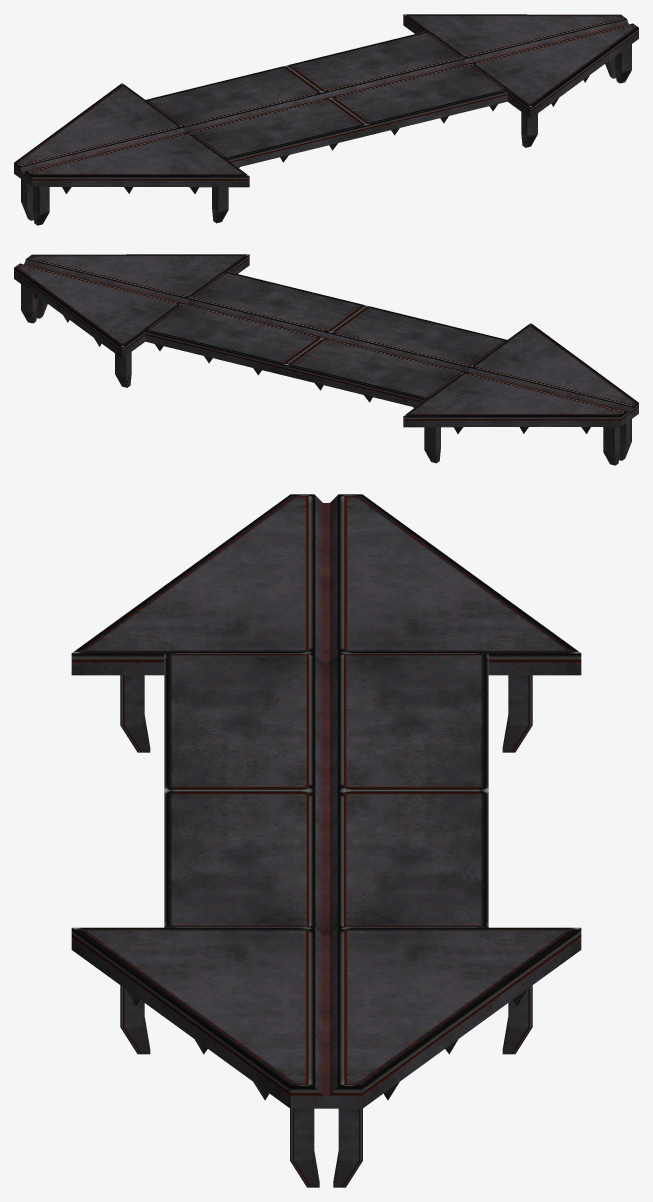
The model's file is frn_jedi_dark_table_l0.fbx.
The picture shows the model from 3 angles, top to bottom: view 1: azimuth 30°, elevation 25°; view 2: azimuth 150°, elevation 25°; view 3: azimuth 270°, elevation 25°; orthographic projection. The views are drawn at different scales.
Parts seen in each view (by area): view 1: mesh_node; view 2: mesh_node; view 3: mesh_node.
Boxes of the visible parts, left/top/right/bottom form: mesh_node: left=14, top=14, right=638, bottom=225; mesh_node: left=14, top=254, right=638, bottom=465; mesh_node: left=71, top=494, right=581, bottom=1187.
Size of the model in its own units: 8.64 by 0.75 by 3.14.
Materials: 1 (1 with a texture image).
